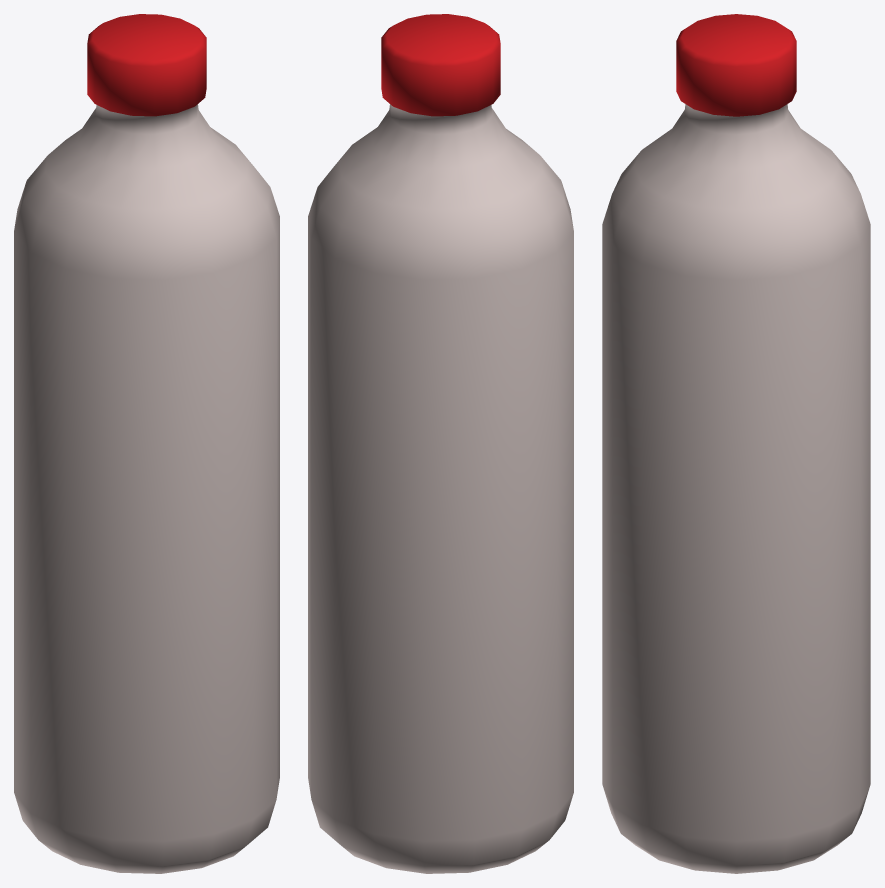
File: VMP_MOD_S_Water_01_01.fbx
3 views of the same model, side by side, from view 1: azimuth 30°, elevation 25°; view 2: azimuth 150°, elevation 25°; view 3: azimuth 270°, elevation 25° (orthographic).
Visible parts, largest first — view 1: VMP_MOD_S_Water_01_01; view 2: VMP_MOD_S_Water_01_01; view 3: VMP_MOD_S_Water_01_01.
Part boxes in pixels (x1=…): VMP_MOD_S_Water_01_01: x1=14, y1=14, x2=279, y2=873; VMP_MOD_S_Water_01_01: x1=308, y1=14, x2=573, y2=873; VMP_MOD_S_Water_01_01: x1=602, y1=14, x2=870, y2=873.
Size of the model in its own units: 0.0708 by 0.2304 by 0.0708.
